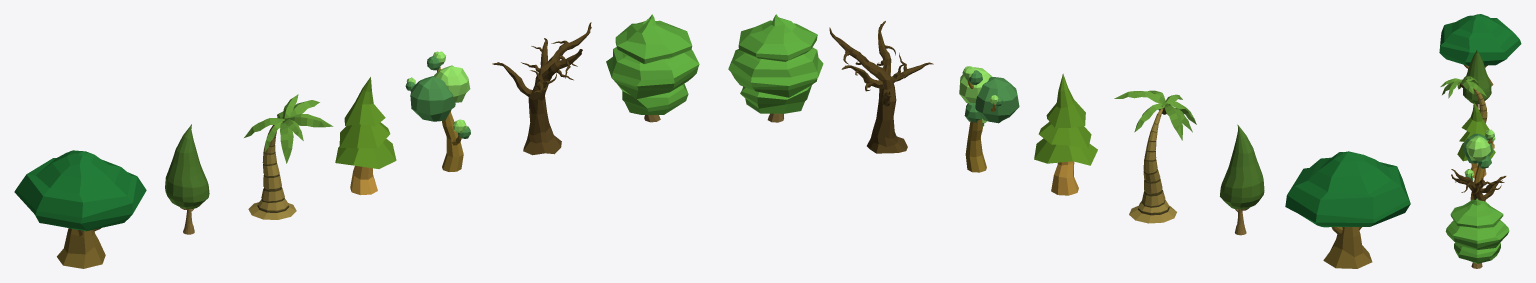
The model's file is low_poly_tree_pack.glb.
3 renders of one model, left to right at view 1: azimuth 30°, elevation 25°; view 2: azimuth 150°, elevation 25°; view 3: azimuth 270°, elevation 25°, orthographic. The views are drawn at different scales.
Visible parts, largest first — view 1: Circle.005, Circle.007, Circle.001, Circle, Circle.002, Circle.006, Circle.004; view 2: Circle.005, Circle.007, Circle.001, Circle, Circle.002, Circle.006, Circle.004; view 3: Circle.005, Circle.007, Circle, Circle.004, Circle.001, Circle.002, Circle.006.
Boxes of the visible parts, bbox=[...] form: Circle.005: bbox=[14, 150, 146, 268]; Circle.007: bbox=[606, 14, 699, 122]; Circle.001: bbox=[335, 77, 396, 195]; Circle: bbox=[405, 51, 470, 171]; Circle.002: bbox=[244, 94, 333, 219]; Circle.006: bbox=[492, 22, 591, 155]; Circle.004: bbox=[165, 124, 209, 208]; Circle.005: bbox=[1285, 151, 1410, 268]; Circle.007: bbox=[728, 14, 823, 122]; Circle.001: bbox=[1034, 73, 1097, 195]; Circle: bbox=[959, 66, 1019, 172]; Circle.002: bbox=[1114, 90, 1196, 223]; Circle.006: bbox=[829, 21, 933, 153]; Circle.004: bbox=[1220, 124, 1264, 209]; Circle.005: bbox=[1439, 14, 1521, 87]; Circle.007: bbox=[1445, 198, 1509, 268]; Circle: bbox=[1462, 129, 1495, 199]; Circle.004: bbox=[1463, 50, 1491, 104]; Circle.001: bbox=[1457, 102, 1495, 178]; Circle.002: bbox=[1440, 76, 1494, 148]; Circle.006: bbox=[1451, 169, 1506, 201].
Size of the model in its own units: 7594 by 1260 by 1240.
